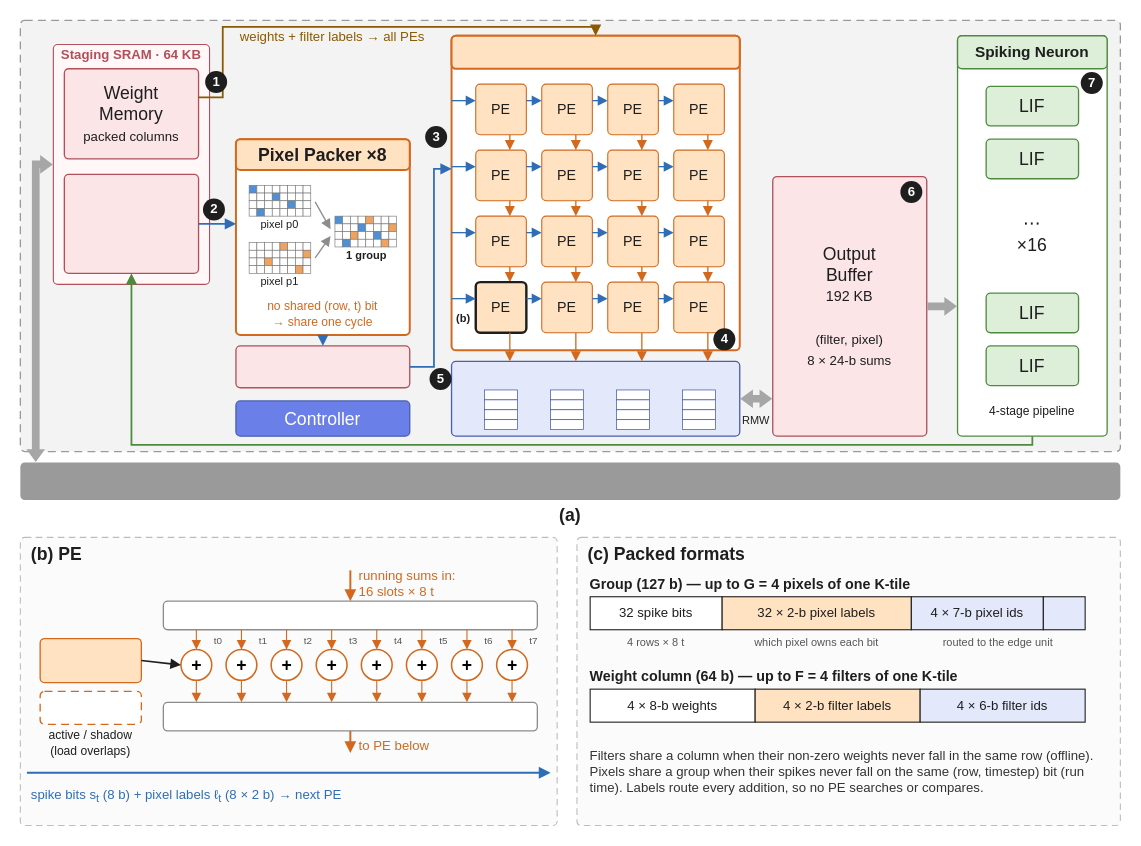
The diagram is 1141 pixels wide and 846 high, and some of its shapes have lost their labels. Each missing label, with the centre of its shape:
cnt: the point at 1063,613
DRAM: the point at 570,480
Edge FIFOs ×4 · RMW ×16: the point at 595,398
Group Buffer · 4 KB: the point at 322,366
PE Array 4×4 (8 adders / PE): the point at 595,51
select slot {f, ℓ t }: the point at 349,615
Spike Memory T-bit trains: the point at 131,223
w | f: the point at 90,660
write back if s t = 1 · set touch bit: the point at 349,716
w′ | f′: the point at 90,707
